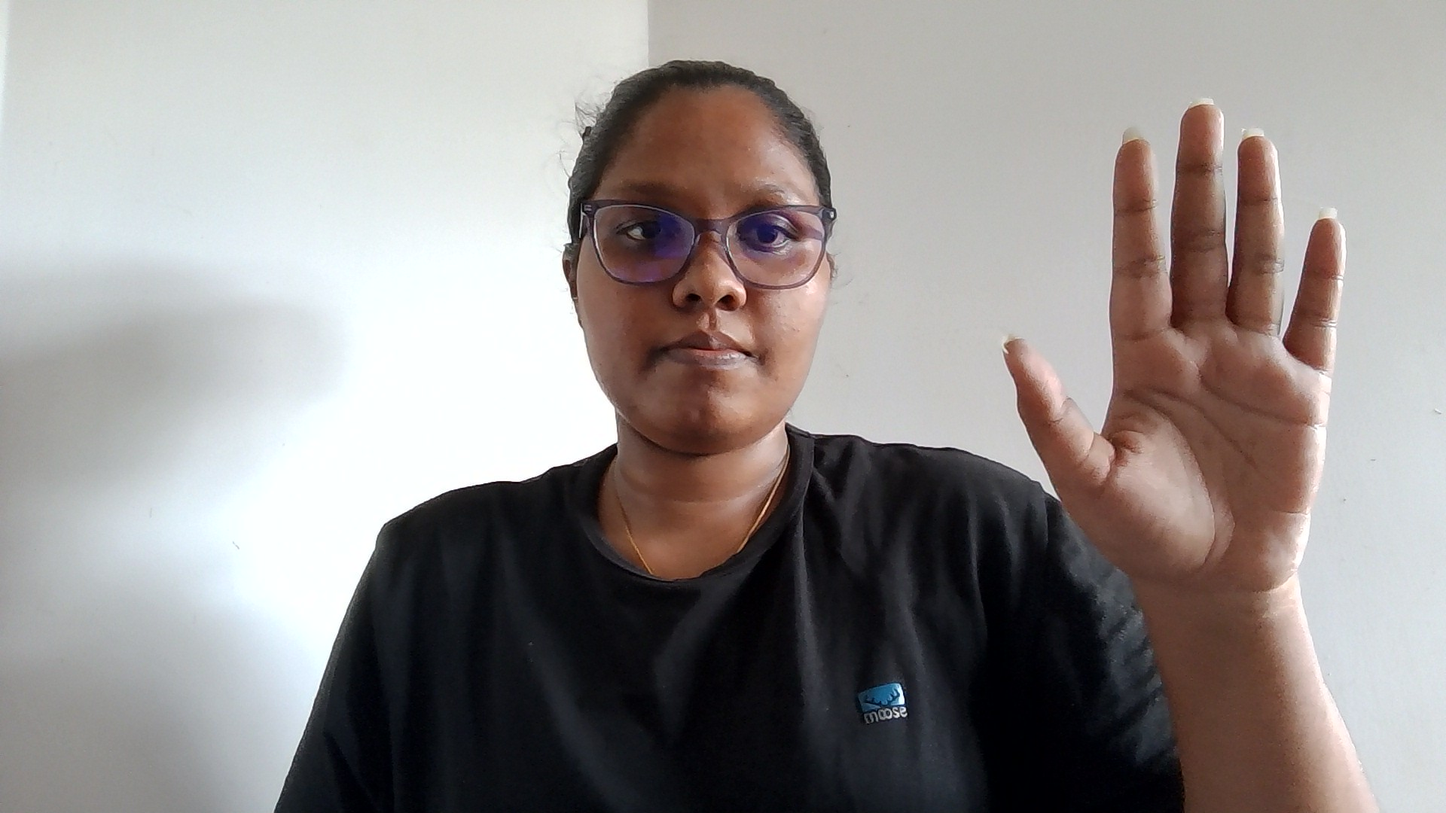Hello: (945, 66, 1425, 656)
